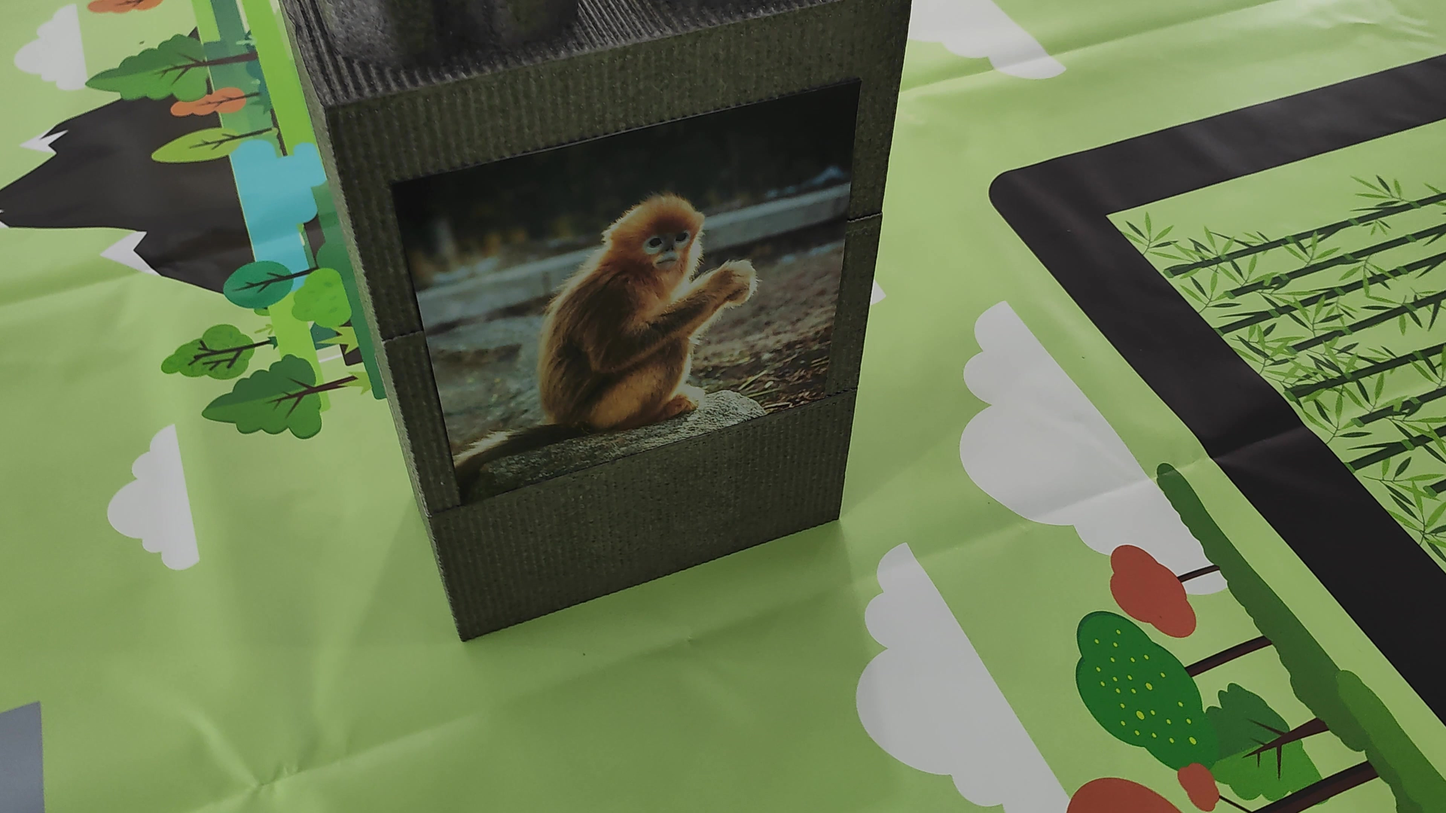monkey: (450, 167, 779, 471)
